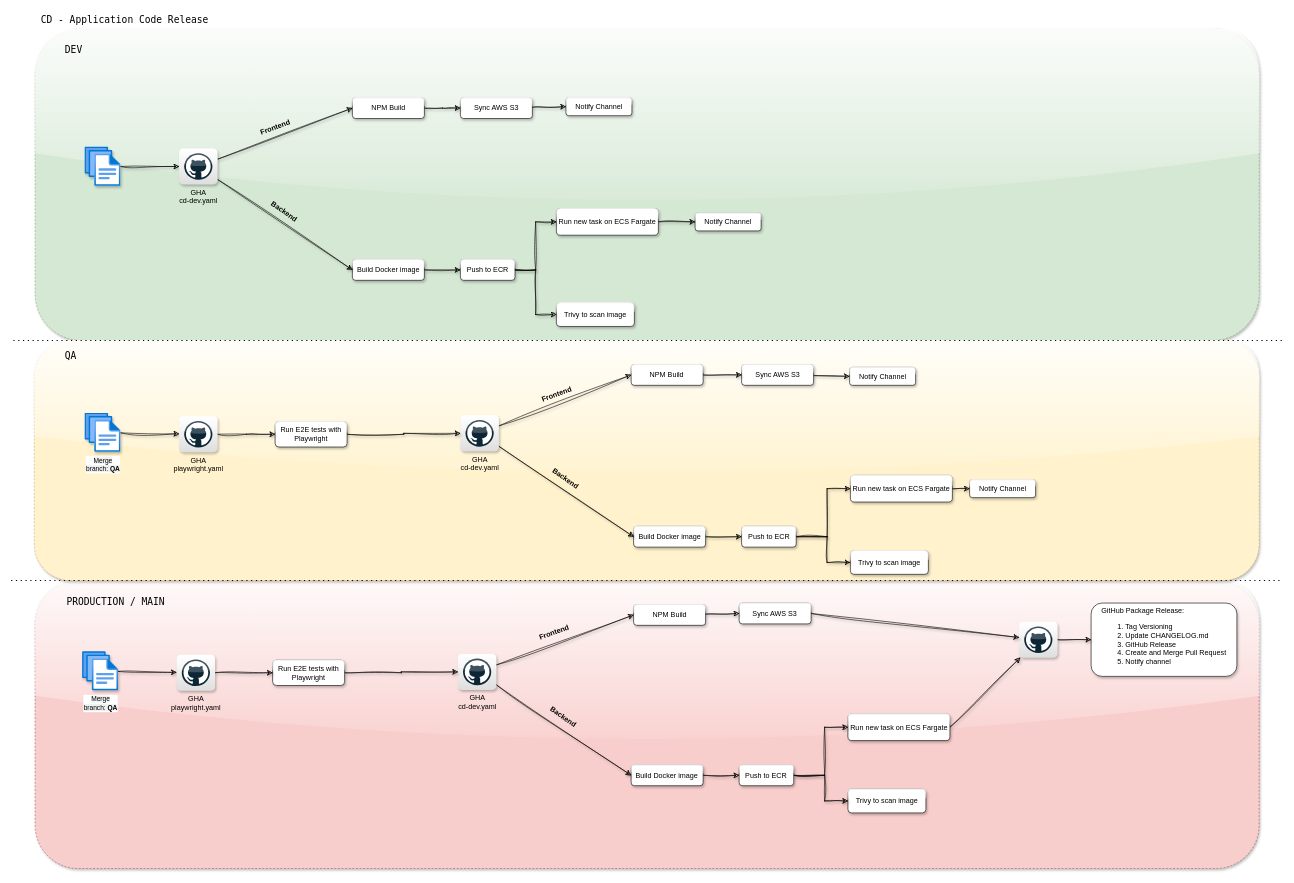
The diagram is 1294 pixels wide and 883 high, and some of its shapes have lost their labels. Here are the shapes that lost their labels. From the top down, the centre of each, then its label:
At [103,167]: "Merge branch: Dev".
At [1038,640]: "GHA release.yaml".
